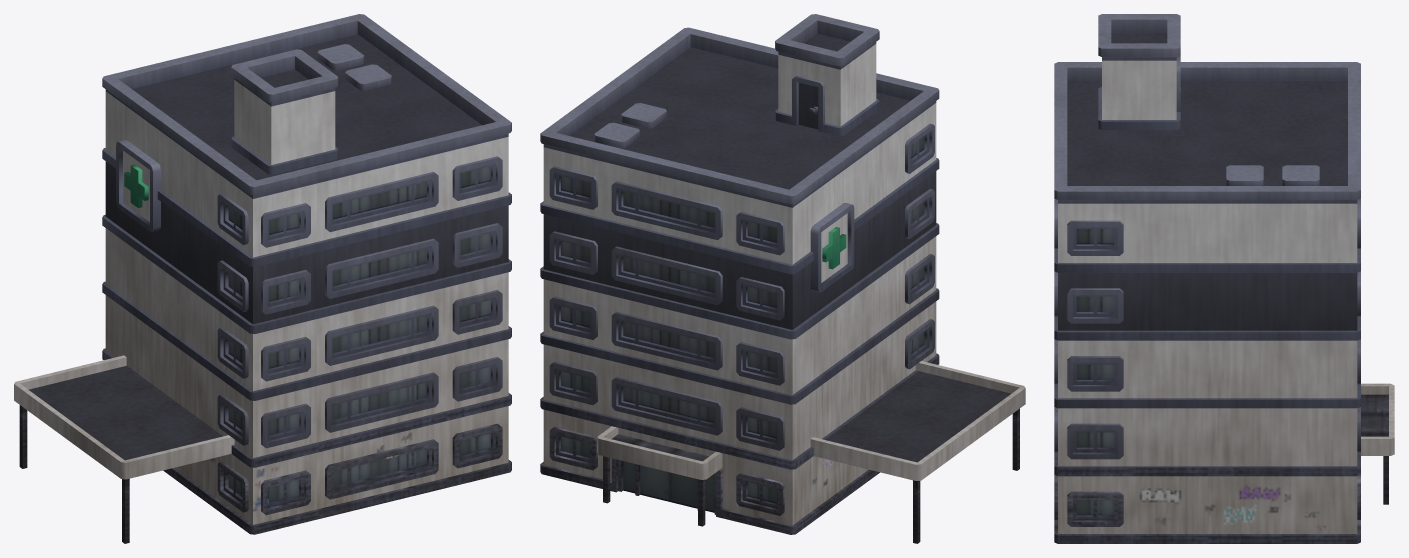
Rendered from building-n-white-scuffed.glb.
3 views of the same model, side by side, from view 1: azimuth 30°, elevation 25°; view 2: azimuth 150°, elevation 25°; view 3: azimuth 270°, elevation 25° (orthographic). The views are drawn at different scales.
Visible parts, largest first — view 1: building-n; view 2: building-n; view 3: building-n.
Part boxes in pixels (x1,y1,x2,y2): building-n: (14,14,511,543); building-n: (540,14,1025,543); building-n: (1054,14,1394,543).
Bounding box in the file's own units: 2.32 × 2.48 × 1.82.
Materials: 1 (1 with a texture image).
